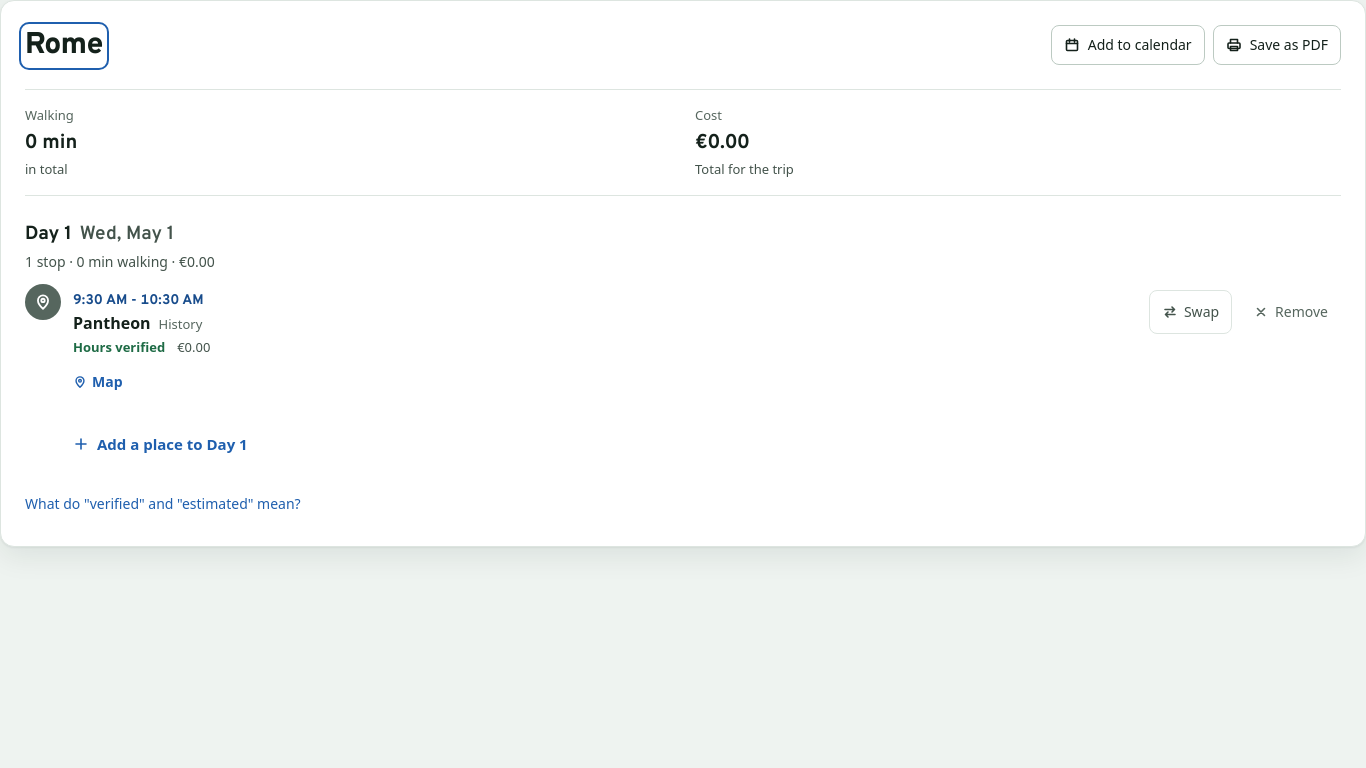
Test case: Swap and Add in the plan › opens the swap list for one stop and sends the chosen change
Later steps or results of the test are not shown.
Click the button with aria-label "Swap Pantheon for another place" at [1190, 312], box [1149,290,1232,334]
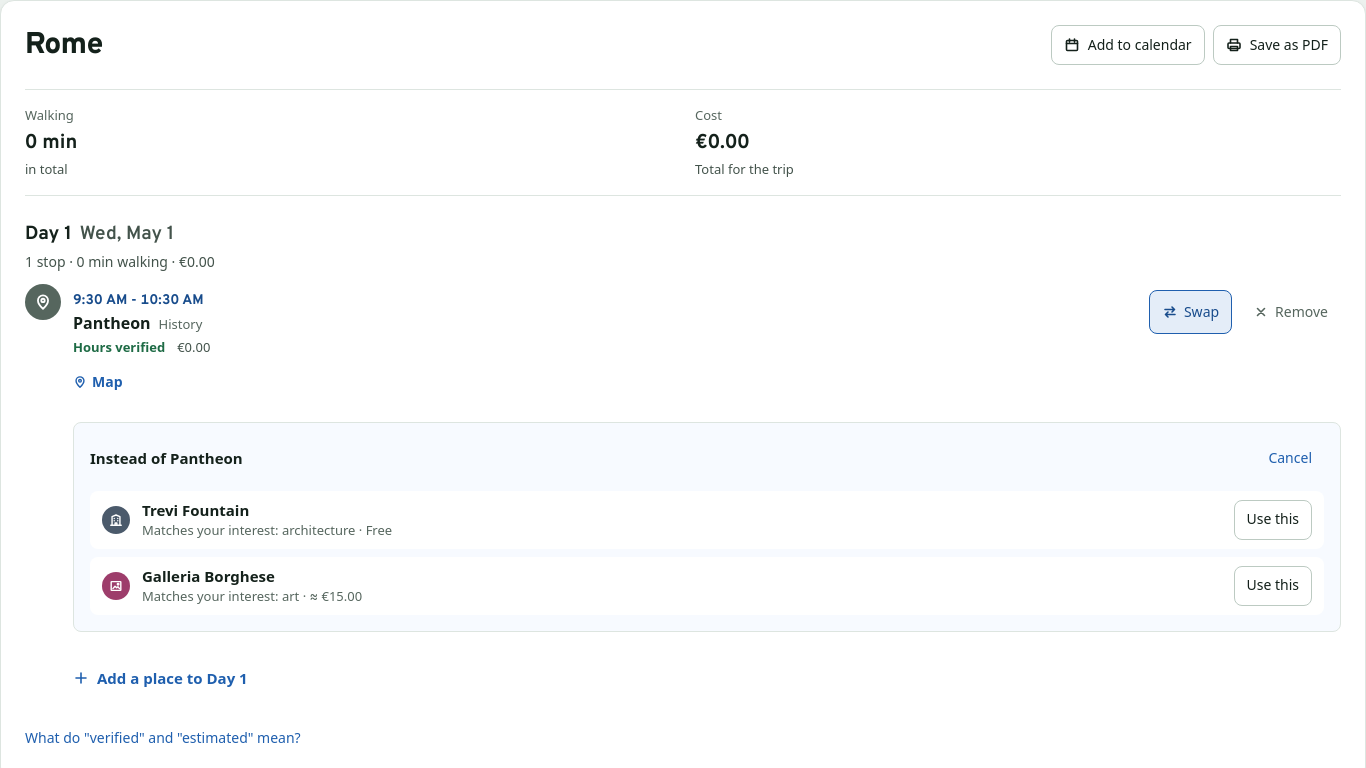
Result: the button with aria-label "Swap Pantheon for another place" is expanded at [1149,290,1232,334]
